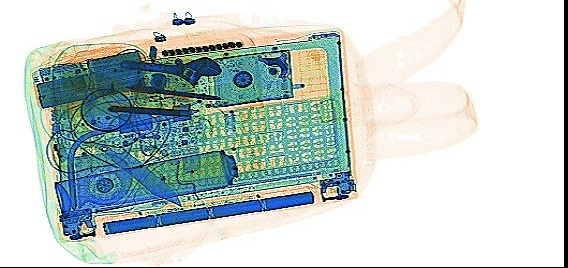knife: (97, 142, 183, 207)
powerbank: (30, 47, 147, 109)
pressure: (53, 144, 239, 220)
